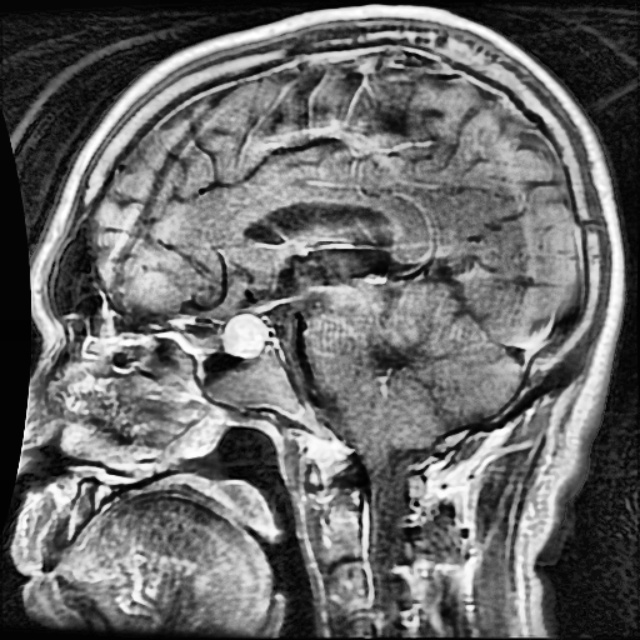Pituitary: (223, 313, 267, 358)
